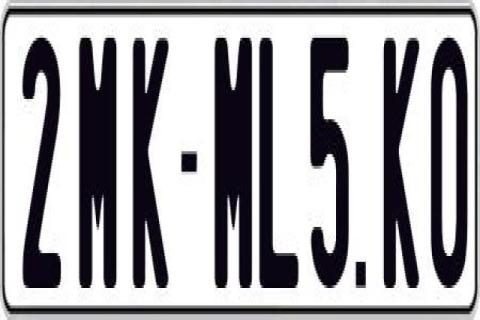0: (308, 35, 348, 303), (20, 29, 59, 288), (432, 35, 464, 297)
K: (381, 32, 416, 296), (131, 32, 166, 288)
L: (258, 38, 303, 297)
M: (79, 29, 121, 294), (212, 29, 252, 297)
